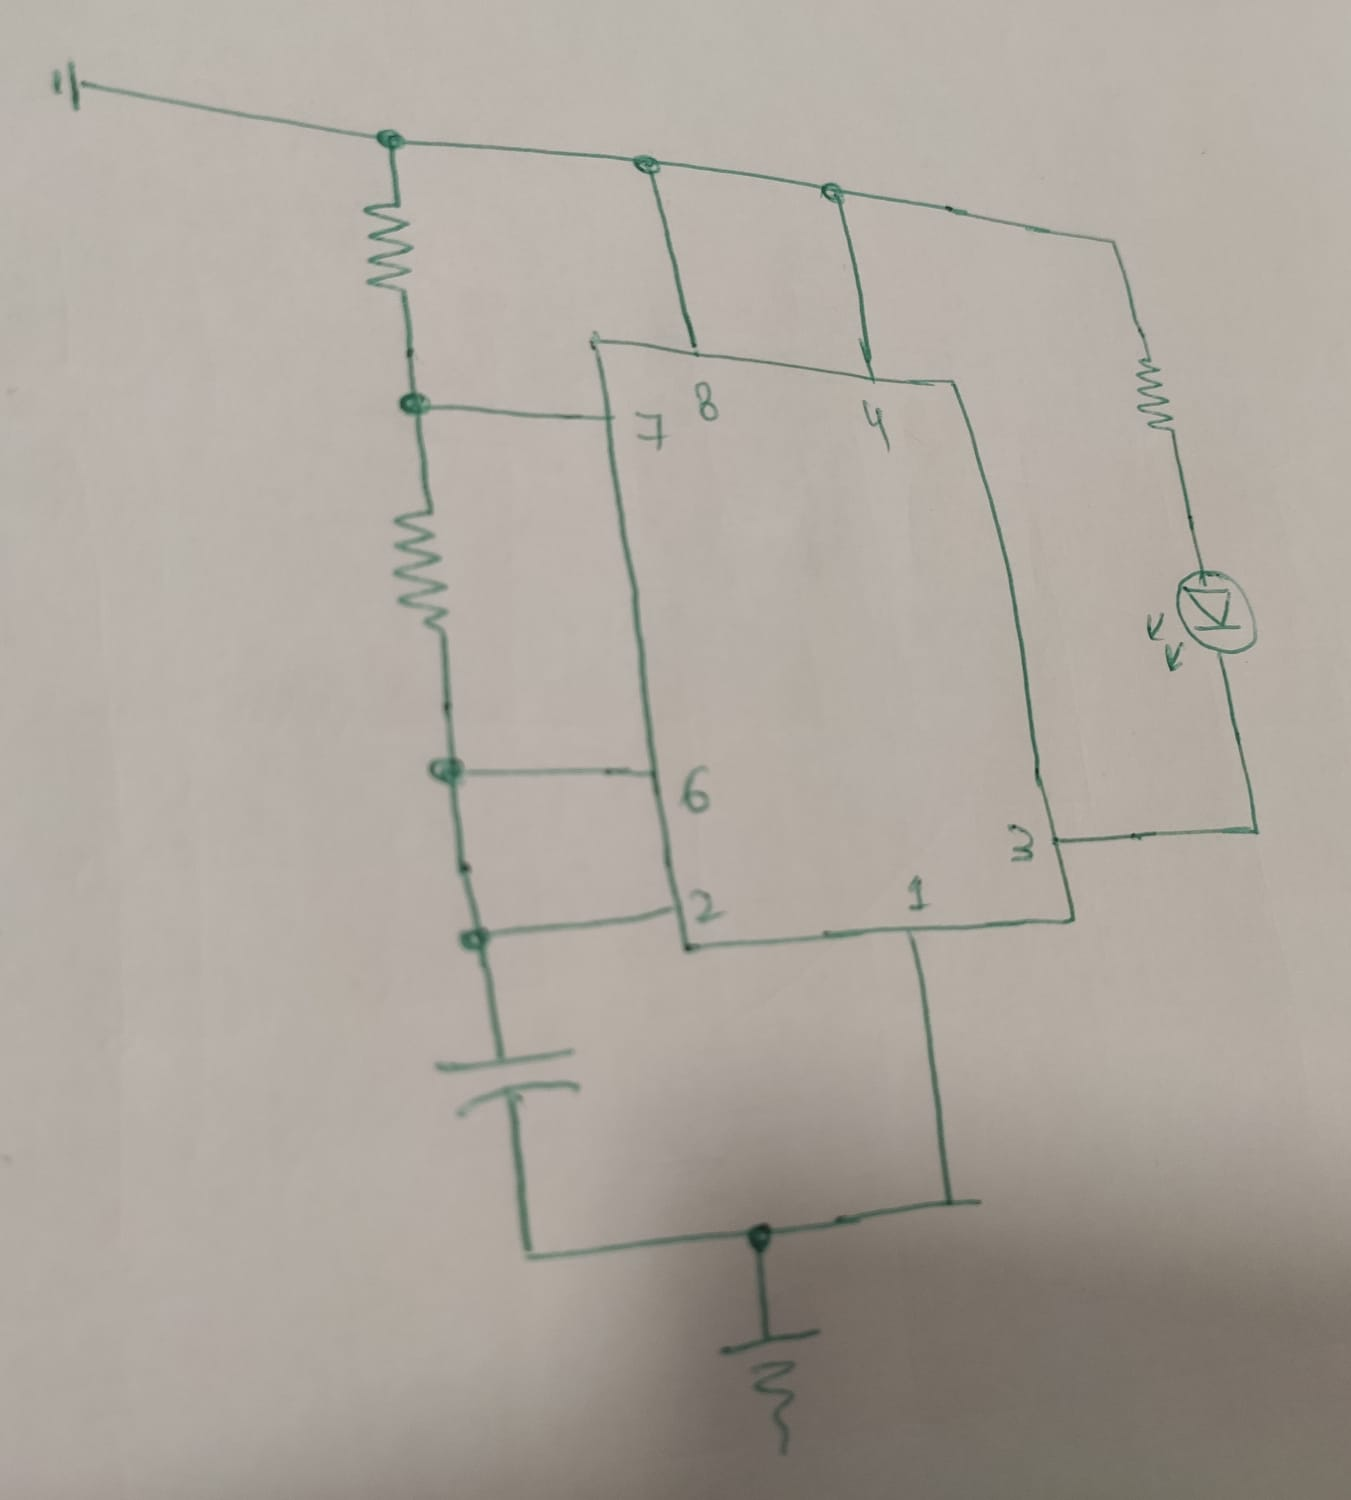capacitor.unpolarized: (436, 1046, 579, 1117)
diode.light_emitting: (1136, 562, 1261, 683)
gnd: (722, 1323, 837, 1450)
integrated_circuit: (580, 327, 1085, 959)
junction: (391, 381, 445, 419), (737, 1214, 782, 1256), (453, 920, 501, 959), (509, 1235, 556, 1273), (425, 753, 471, 790), (928, 1183, 972, 1217), (625, 149, 669, 181), (1238, 811, 1275, 849), (366, 124, 409, 157), (814, 173, 852, 210), (1097, 226, 1131, 262)
resistor: (387, 502, 453, 640), (360, 192, 421, 303), (1125, 350, 1180, 432)
text: (679, 760, 717, 814), (631, 402, 666, 453), (1004, 820, 1037, 867), (861, 393, 889, 445), (689, 878, 719, 922), (696, 386, 719, 427), (908, 870, 928, 908)
voltage.dc: (46, 51, 87, 116)
